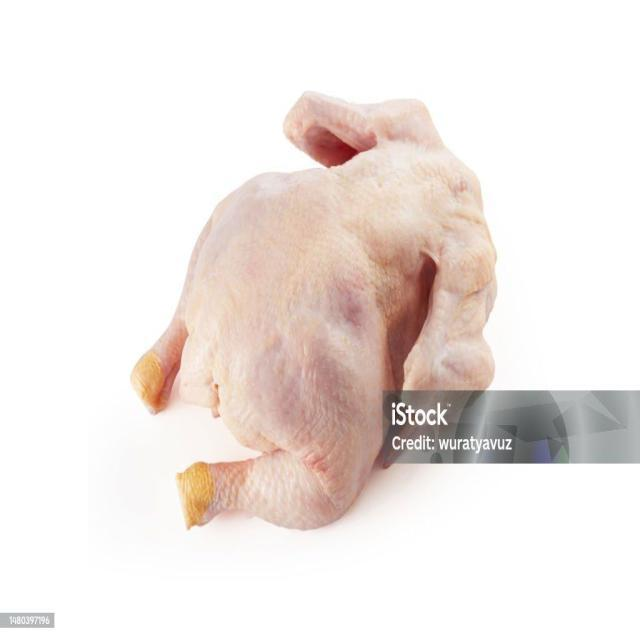Chicken: (130, 79, 517, 560)
